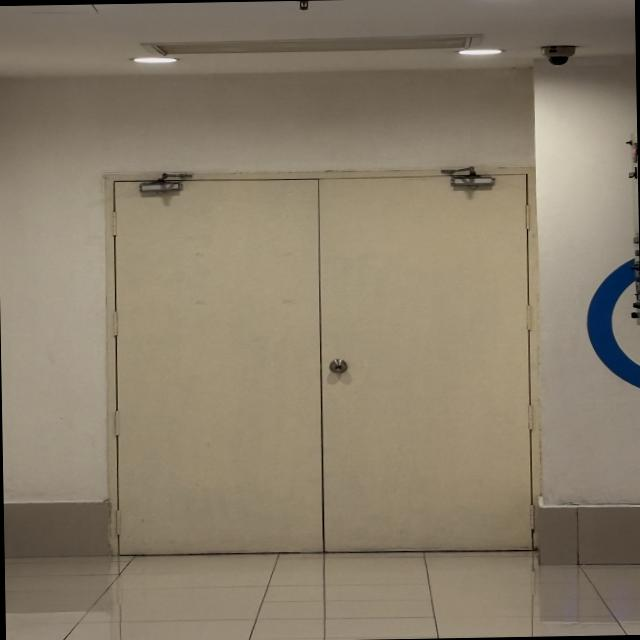door: (101, 168, 535, 555)
